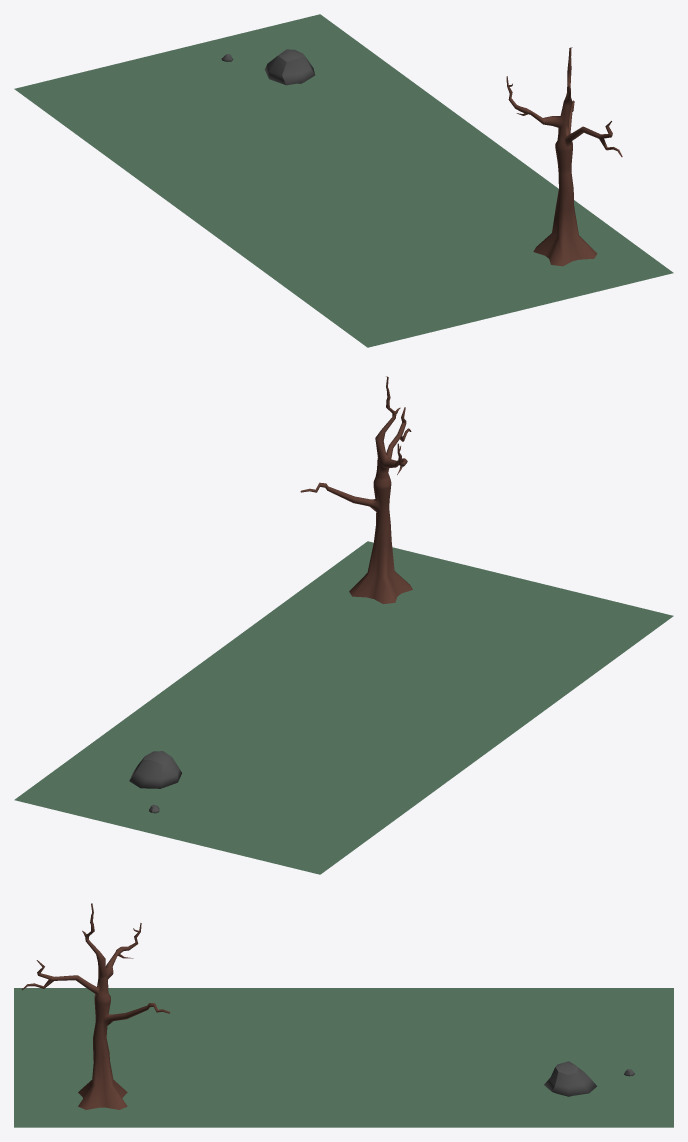
The model's file is room_piece_2.obj.
The picture shows the model from 3 angles, top to bottom: view 1: azimuth 30°, elevation 25°; view 2: azimuth 150°, elevation 25°; view 3: azimuth 270°, elevation 25°; orthographic projection. The views are drawn at different scales.
Visible parts, largest first — view 1: room_piece_2_pCube6; view 2: room_piece_2_pCube6; view 3: room_piece_2_pCube6.
Part boxes in pixels (x1=…): room_piece_2_pCube6: x1=14, y1=14, x2=673, y2=347; room_piece_2_pCube6: x1=14, y1=376, x2=673, y2=874; room_piece_2_pCube6: x1=14, y1=903, x2=673, y2=1127.
Size of the model in its own units: 25 by 16.65 by 50.
